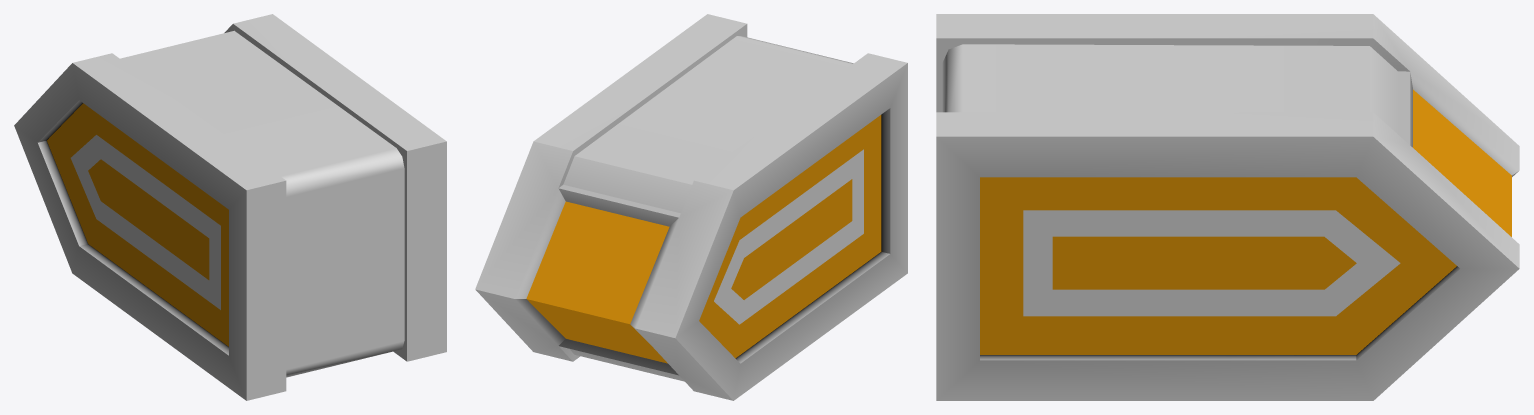
Rendered from obj_dekotora_arrowlight.fbx.
The picture shows the model from 3 angles, left to right: view 1: azimuth 30°, elevation 25°; view 2: azimuth 150°, elevation 25°; view 3: azimuth 270°, elevation 25°; orthographic projection. The views are drawn at different scales.
Visible parts, largest first — view 1: Cube.077, Cube.079; view 2: Cube.077, Cube.079, Cube.078; view 3: Cube.077, Cube.079, Cube.078.
Boxes of the visible parts, box(x1,y1,x2,y2) form: Cube.077: box(14, 14, 446, 400); Cube.079: box(47, 103, 228, 346); Cube.077: box(475, 14, 907, 400); Cube.079: box(699, 115, 881, 358); Cube.078: box(526, 201, 669, 363); Cube.077: box(936, 14, 1519, 400); Cube.079: box(980, 177, 1456, 354); Cube.078: box(1413, 89, 1511, 236).
Size of the model in its own units: 1.99 by 2 by 4.
